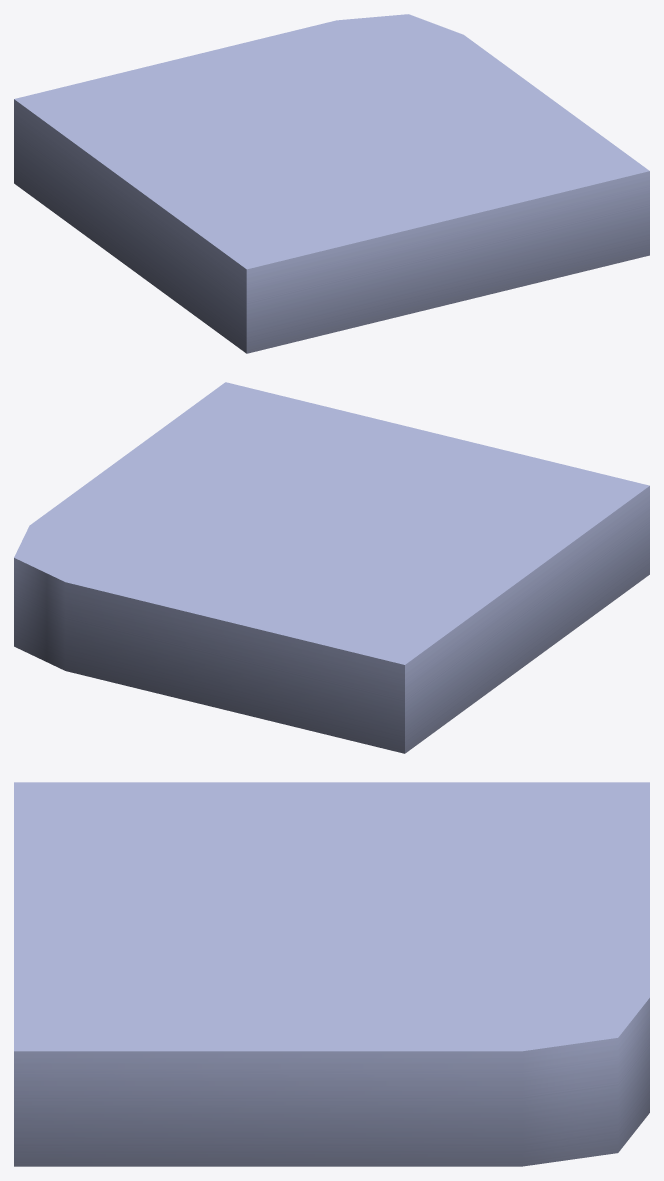
Rendered from floor-thick-corner-rounded.fbx.
3 views of the same model, one above another, from view 1: azimuth 30°, elevation 25°; view 2: azimuth 150°, elevation 25°; view 3: azimuth 270°, elevation 25° (orthographic). The views are drawn at different scales.
Parts seen in each view (by area): view 1: floor-thick-corner-rounded; view 2: floor-thick-corner-rounded; view 3: floor-thick-corner-rounded.
Boxes of the visible parts, x1=… form: floor-thick-corner-rounded: x1=14, y1=14, x2=649, y2=353; floor-thick-corner-rounded: x1=14, y1=382, x2=649, y2=753; floor-thick-corner-rounded: x1=14, y1=782, x2=649, y2=1166.
Size of the model in its own units: 100 by 20 by 100.
